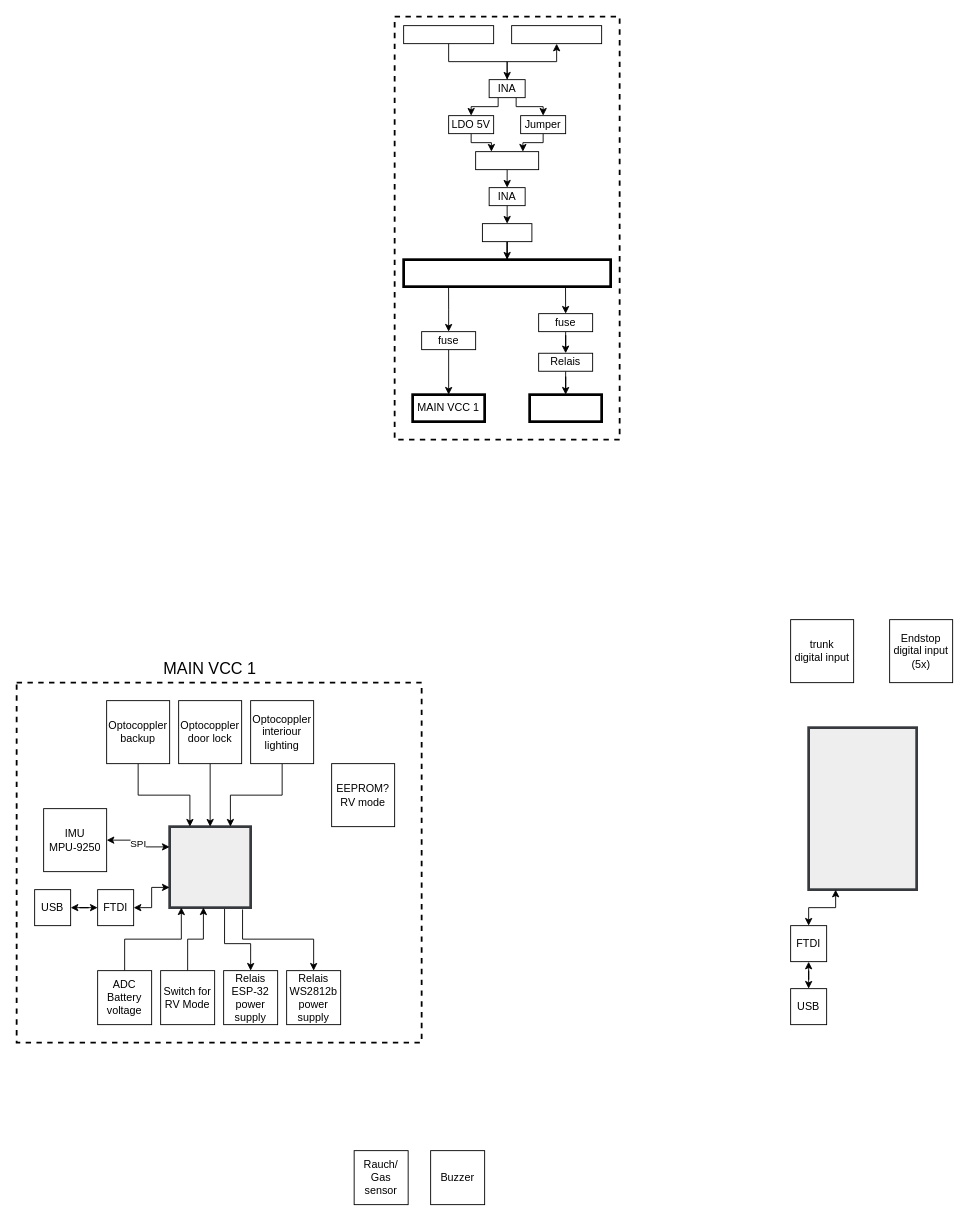
The diagram is 968 pixels wide and 1220 high, and some of its shapes have lost their labels. Each missing label, with the box of its shape:
18650 USV: (475, 151, 539, 170)
Atmega328p: (168, 825, 252, 909)
ESP-32: (807, 726, 918, 891)
LDO 3.3V: (482, 223, 532, 242)
MAIN VCC (3.3V): (402, 258, 612, 288)
MAIN VCC 2: (528, 393, 603, 423)
screw connector: (403, 25, 494, 44)
USB-C IN: (511, 25, 602, 44)
